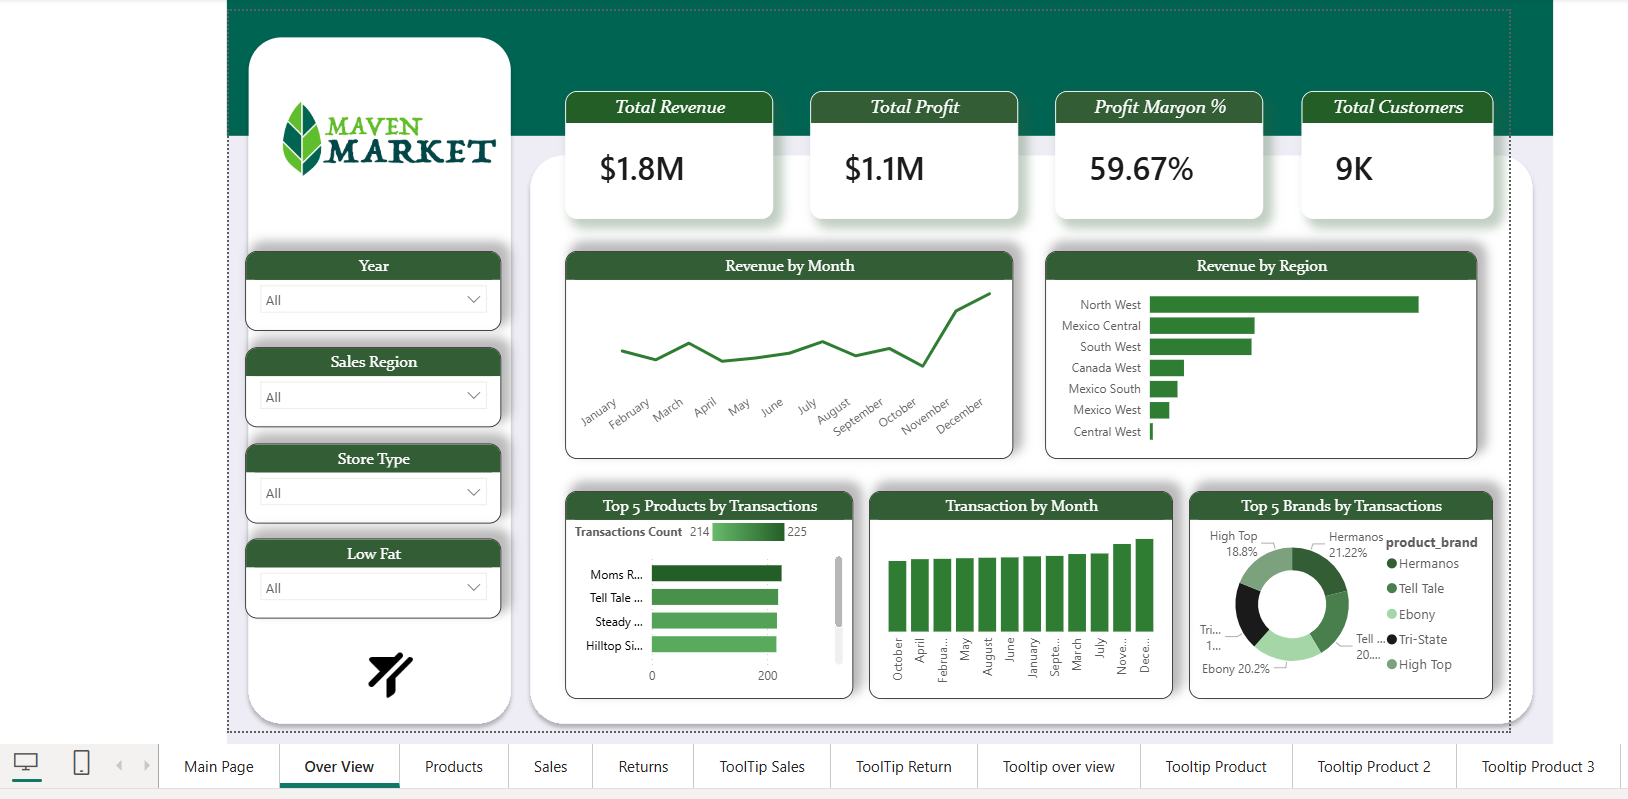

The page's visual inventory and layout, read from the dashboard file:
{"tool":"powerbi","page":{"name":"Over View","canvas":[1280,720],"ordinal":1},"visuals":[{"type":"image","box":[48,48,224,160],"z":0},{"type":"cardVisual","title":"Total Revenue","fields":{"Data":["_Measure.Total Revenue"]},"box":[336,80,208,128],"z":1000},{"type":"cardVisual","title":"Total Profit","fields":{"Data":["_Measure.Total Profit"]},"box":[581.3,80,208,128],"z":2000},{"type":"cardVisual","title":"Profit Margon %","fields":{"Data":["_Measure.Profit Margon %"]},"box":[826.7,80,208,128],"z":3000},{"type":"cardVisual","title":"Total Customers","fields":{"Data":["_Measure.Total Customers"]},"box":[1072,80,192,128],"z":4000},{"type":"lineChart","title":"Revenue by Month","fields":{"Y":["_Measure.Total Revenue"],"Category":["Dim_Calendar.Month","Dim_Calendar.Year"]},"box":[336,240,448,208],"z":5000},{"type":"clusteredBarChart","title":"Revenue by Region","fields":{"Y":["_Measure.Total Revenue"],"Category":["Dim_Regions.sales_region"]},"box":[816,240,432,208],"z":6000},{"type":"donutChart","title":"Top 5 Brands by Transactions","fields":{"Y":["_Measure.Transactions Count"],"Category":["Dim_Products.product_brand"]},"box":[960,480,304,208],"z":7000},{"type":"clusteredColumnChart","title":"Transaction by Month","fields":{"Category":["Dim_Calendar.Month"],"Y":["_Measure.Transactions Count"]},"box":[640,480,304,208],"z":8000},{"type":"barChart","title":"Top 5 Products by Transactions","fields":{"Category":["Dim_Products.product_name"],"Y":["_Measure.Transactions Count"]},"box":[336,480,288,208],"z":9000},{"type":"slicer","title":"Year","fields":{"Values":["Dim_Products.product_brand"]},"box":[16,240,256,80],"z":10000},{"type":"slicer","title":"Sales Region","fields":{"Values":["Dim_Regions.sales_region"]},"box":[16,336,256,80],"z":11000},{"type":"slicer","title":"Store Type","fields":{"Values":["Dim_Stores.store_type"]},"box":[16,432,256,80],"z":12000},{"type":"slicer","title":"Low Fat","fields":{"Values":["Dim_Products.low_fat"]},"box":[16,528,256,80],"z":13000},{"type":"image","box":[112,640,96,48],"z":14000}]}

Visuals, with their boxes on the page's 1280x720 design canvas (x1, y1, x2, y2). These are canvas units, not pixel positions in the 1628x799 screenshot, which may show the page scaled, cropped or inside an application window:
image: {"left": 48, "top": 48, "right": 272, "bottom": 208}
"Total Revenue" cardVisual: {"left": 336, "top": 80, "right": 544, "bottom": 208}
"Total Profit" cardVisual: {"left": 581, "top": 80, "right": 789, "bottom": 208}
"Profit Margon %" cardVisual: {"left": 827, "top": 80, "right": 1035, "bottom": 208}
"Total Customers" cardVisual: {"left": 1072, "top": 80, "right": 1264, "bottom": 208}
"Revenue by Month" lineChart: {"left": 336, "top": 240, "right": 784, "bottom": 448}
"Revenue by Region" clusteredBarChart: {"left": 816, "top": 240, "right": 1248, "bottom": 448}
"Top 5 Brands by Transactions" donutChart: {"left": 960, "top": 480, "right": 1264, "bottom": 688}
"Transaction by Month" clusteredColumnChart: {"left": 640, "top": 480, "right": 944, "bottom": 688}
"Top 5 Products by Transactions" barChart: {"left": 336, "top": 480, "right": 624, "bottom": 688}
"Year" slicer: {"left": 16, "top": 240, "right": 272, "bottom": 320}
"Sales Region" slicer: {"left": 16, "top": 336, "right": 272, "bottom": 416}
"Store Type" slicer: {"left": 16, "top": 432, "right": 272, "bottom": 512}
"Low Fat" slicer: {"left": 16, "top": 528, "right": 272, "bottom": 608}
image: {"left": 112, "top": 640, "right": 208, "bottom": 688}
